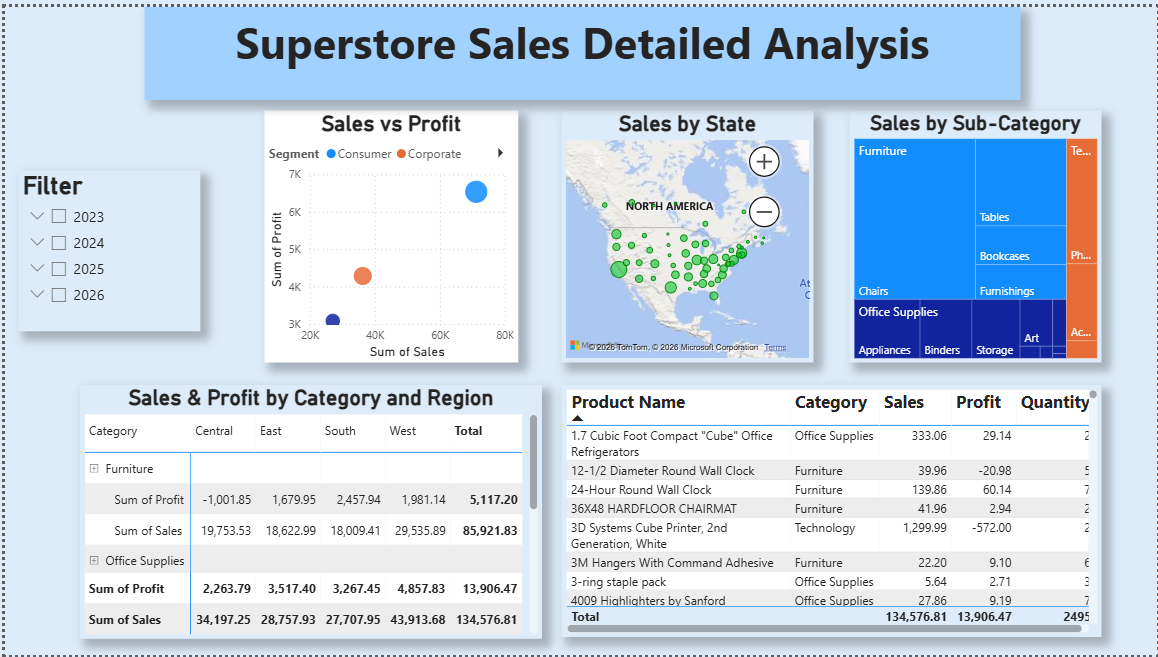

The dashboard page shown, as its layout file describes it:
{"tool":"powerbi","page":{"name":"Page 2","canvas":[1280,720],"ordinal":1},"visuals":[{"type":"map","title":"Sales by State","fields":{"Category":["samplesuperstore.State"],"Size":["Sum(samplesuperstore.Sales)"]},"box":[618.3,115,280,280],"z":0},{"type":"pivotTable","title":"Sales & Profit by Category and Region","fields":{"Rows":["samplesuperstore.Category","samplesuperstore.Sub Category"],"Columns":["samplesuperstore.Region"],"Values":["Sum(samplesuperstore.Profit)","Sum(samplesuperstore.Sales)"]},"box":[83.3,420,513.3,281.7],"z":1000},{"type":"tableEx","fields":{"Values":["samplesuperstore.Product Name","samplesuperstore.Category","Sum(samplesuperstore.Sales)","Sum(samplesuperstore.Profit)","Sum(samplesuperstore.Quantity)"]},"box":[618.3,420,600,280],"z":2000},{"type":"treemap","title":"Sales by Sub-Category","fields":{"Group":["samplesuperstore.Category"],"Details":["samplesuperstore.Sub Category"],"Values":["Sum(samplesuperstore.Sales)"]},"box":[938.3,115,280,280],"z":3000},{"type":"scatterChart","title":"Sales vs Profit","fields":{"X":["Sum(samplesuperstore.Sales)"],"Y":["Sum(samplesuperstore.Profit)"],"Size":["Sum(samplesuperstore.Quantity)"],"Series":["samplesuperstore.Segment"]},"box":[288.3,115,281.7,280],"z":4000},{"type":"textbox","box":[155,0,973.3,103.3],"z":5000},{"type":"slicer","title":"Filter","fields":{"Values":["samplesuperstore.Year","samplesuperstore.Region","samplesuperstore.Category","samplesuperstore.Segment"]},"box":[15,181.7,201.7,178.3],"z":6000}]}

Visuals, with their boxes in screenshot pixels (x1, y1, x2, y2), scaled from the page's 1280x720 canvas onto the 1158x657 screenshot:
"Sales by State" map: Rect(559, 105, 813, 360)
"Sales & Profit by Category and Region" pivotTable: Rect(75, 383, 540, 640)
tableEx - samplesuperstore.Product Name x samplesuperstore.Category: Rect(559, 383, 1102, 639)
"Sales by Sub-Category" treemap: Rect(849, 105, 1102, 360)
"Sales vs Profit" scatterChart: Rect(261, 105, 516, 360)
textbox: Rect(140, 0, 1021, 94)
"Filter" slicer: Rect(14, 166, 196, 328)
